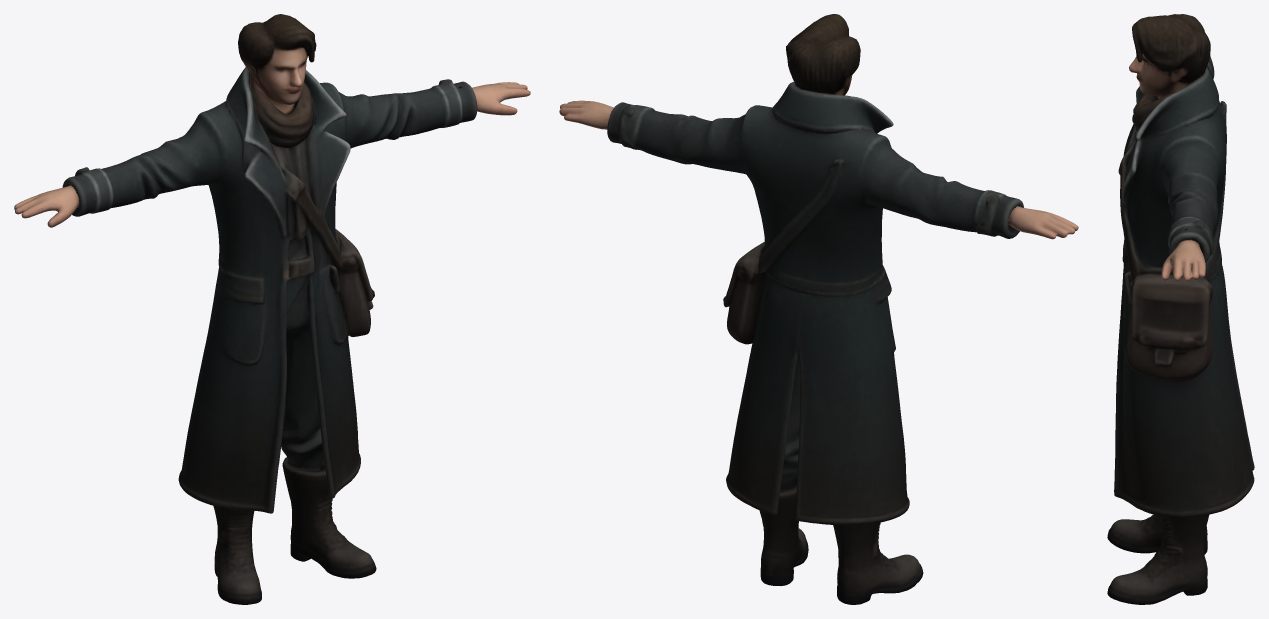
Rendered from sample_2026-11-13T030101.302.glb.
The picture shows the model from 3 angles, left to right: view 1: azimuth 30°, elevation 25°; view 2: azimuth 150°, elevation 25°; view 3: azimuth 270°, elevation 25°; orthographic projection.
Parts seen in each view (by area): view 1: world; view 2: world; view 3: world.
Part boxes in pixels (x1,y1,x2,y2): world: [14, 14, 530, 604]; world: [559, 14, 1078, 604]; world: [1107, 14, 1254, 604].
Size of the model in its own units: 0.9683 by 1 by 0.2411.
Materials: 1 (1 with a texture image).
